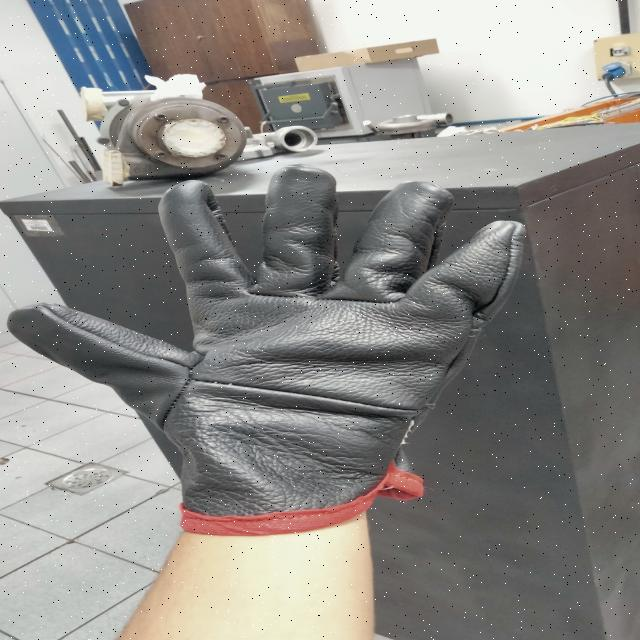Gloves: (18, 165, 544, 539)
